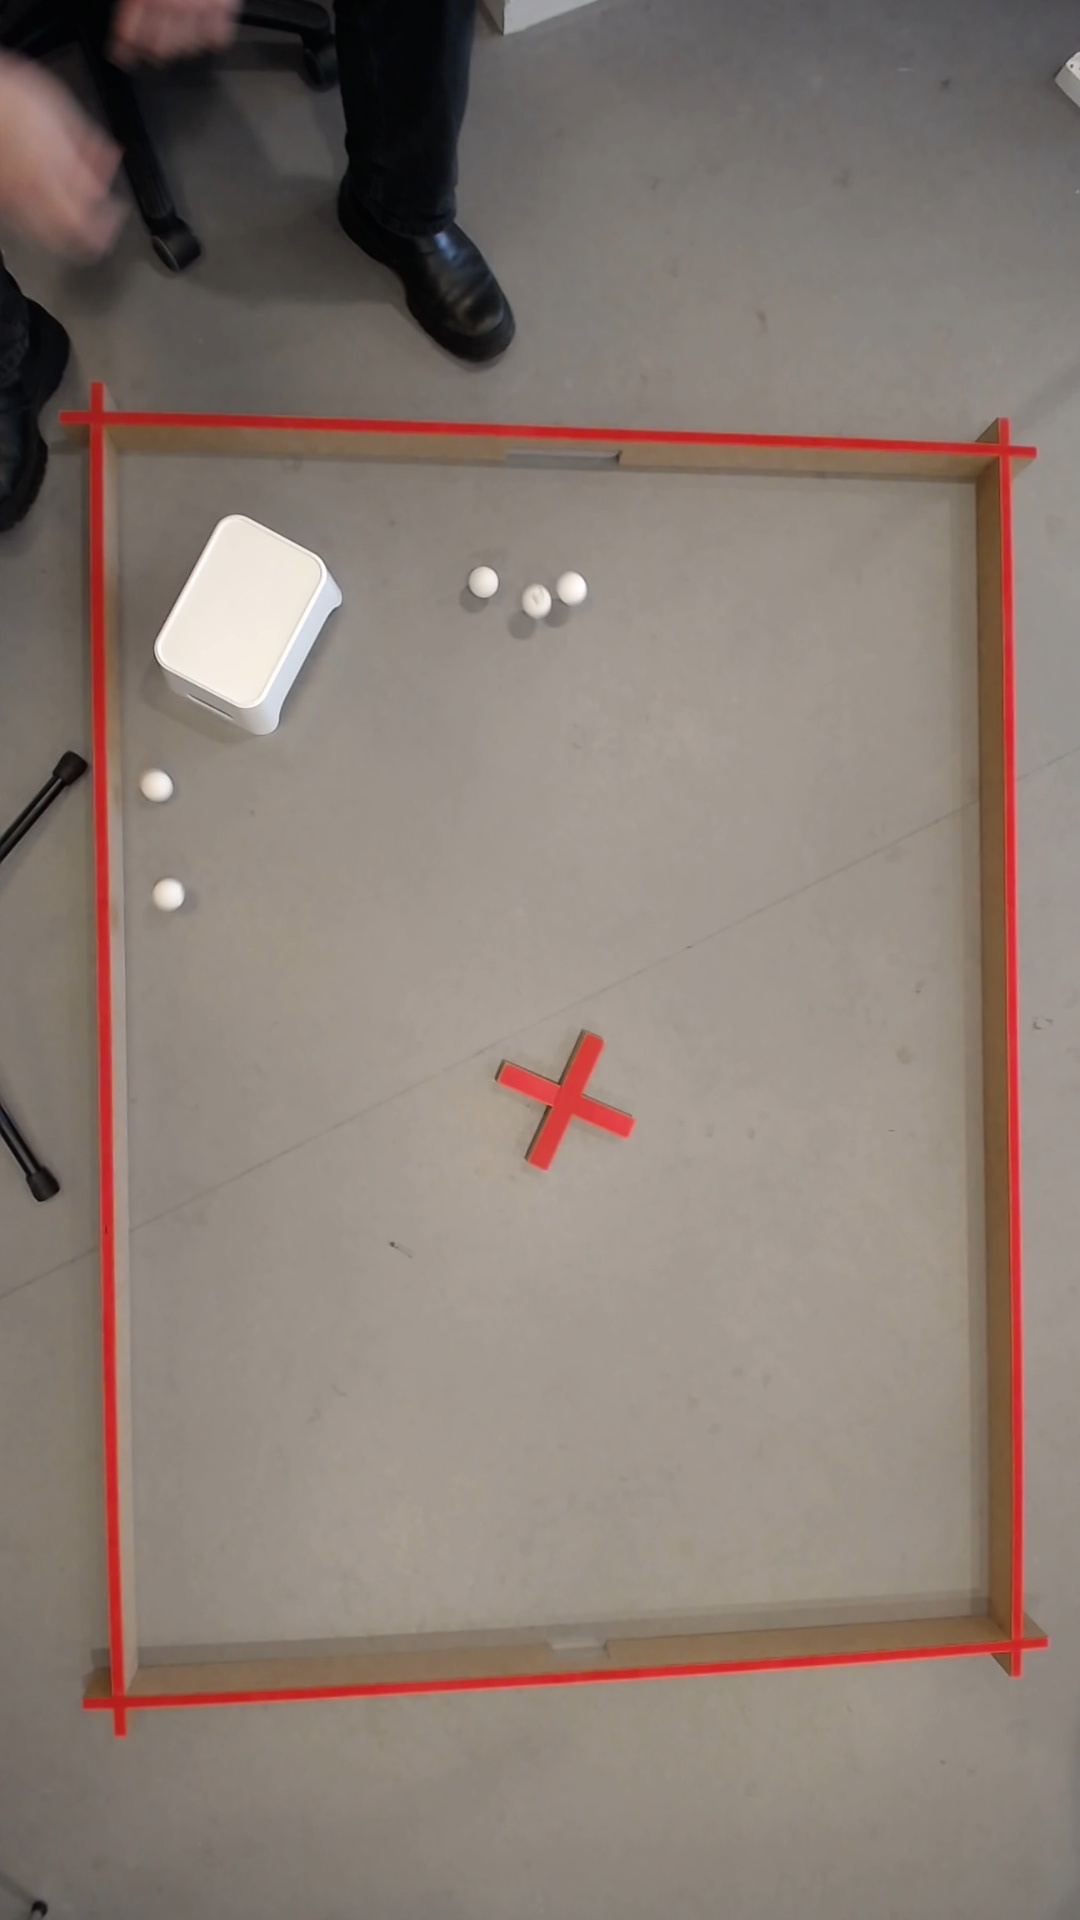balls: (144, 505, 356, 729), (15, 90, 57, 142), (553, 567, 591, 607), (156, 880, 182, 907), (144, 771, 171, 798), (525, 587, 550, 615)
car: (467, 562, 504, 600)
